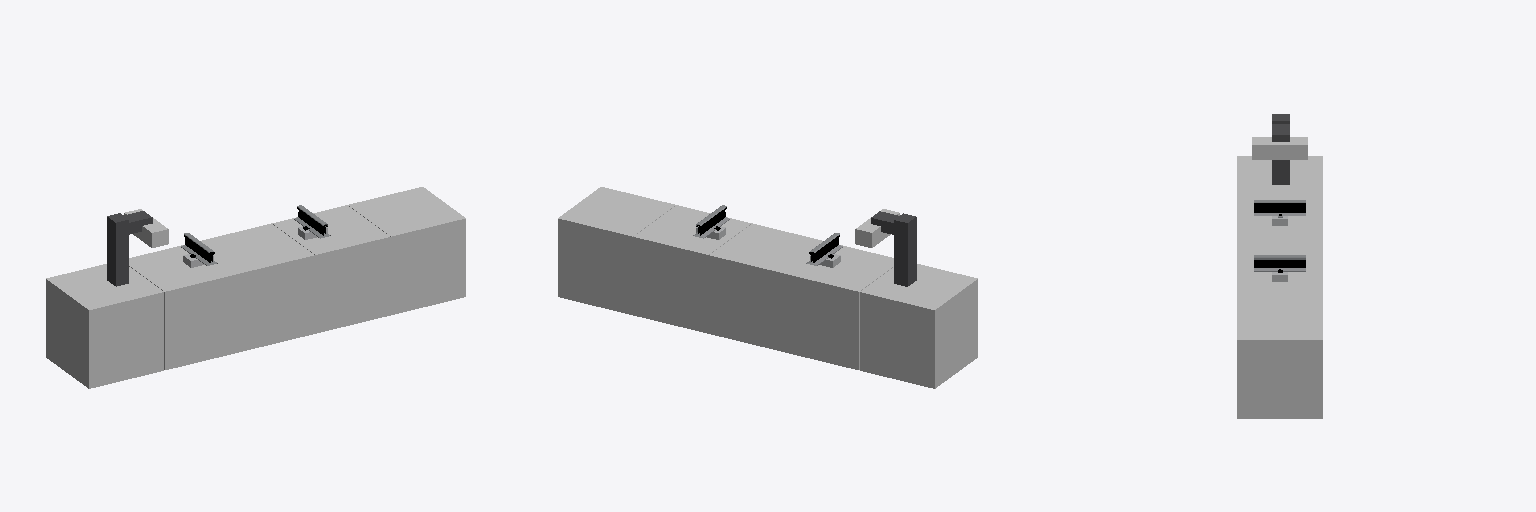
3 views of the same model, side by side, from view 1: azimuth 30°, elevation 25°; view 2: azimuth 150°, elevation 25°; view 3: azimuth 270°, elevation 25° (orthographic).
Parts seen in each view (by area): view 1: block_5.003, block_5.005, block_5.004, block_5.002, block_5.001, rail_pole, rail_siding, 3rd_rail_contact; view 2: block_5.003, block_5.005, block_5.004, block_5.001, block_5.002, rail_pole, rail_siding, 3rd_rail_contact; view 3: block_5.005, block_5.001, block_5.004, block_5.003, block_5.002, rail_siding, 3rd_rail_contact, rail_pole.
Part boxes in pixels (left/top/right/bottom): block_5.003: left=46, top=264, right=163, bottom=388; block_5.005: left=348, top=187, right=465, bottom=314; block_5.004: left=201, top=223, right=314, bottom=351; block_5.002: left=129, top=245, right=239, bottom=369; block_5.001: left=272, top=205, right=390, bottom=333; rail_pole: left=107, top=213, right=128, bottom=286; rail_siding: left=181, top=205, right=330, bottom=267; 3rd_rail_contact: left=124, top=209, right=168, bottom=247; block_5.003: left=860, top=264, right=977, bottom=388; block_5.005: left=558, top=187, right=675, bottom=314; block_5.004: left=709, top=223, right=822, bottom=351; block_5.001: left=633, top=205, right=751, bottom=333; block_5.002: left=784, top=245, right=893, bottom=369; rail_pole: left=894, top=213, right=916, bottom=286; rail_siding: left=693, top=205, right=842, bottom=267; 3rd_rail_contact: left=855, top=209, right=899, bottom=247; block_5.005: left=1237, top=304, right=1322, bottom=418; block_5.001: left=1237, top=267, right=1322, bottom=303; block_5.004: left=1237, top=230, right=1322, bottom=266; block_5.003: left=1237, top=156, right=1322, bottom=192; block_5.002: left=1237, top=193, right=1322, bottom=229; rail_siding: left=1254, top=200, right=1305, bottom=281; 3rd_rail_contact: left=1252, top=137, right=1307, bottom=159; rail_pole: left=1272, top=114, right=1289, bottom=184.
Bounding box in the file's own units: 5.01 × 1.82 × 1.
Materials: 9 (2 with a texture image).